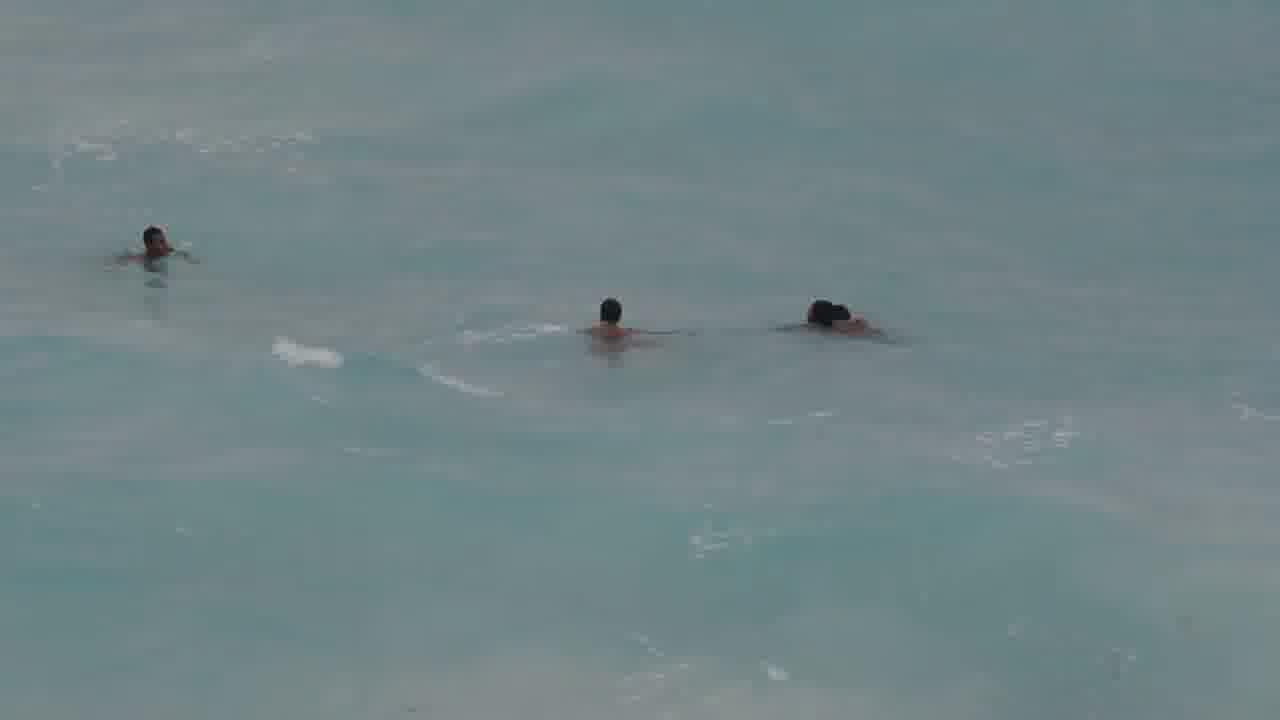swimmer: (795, 294, 873, 337), (581, 289, 639, 346), (121, 223, 192, 264)
